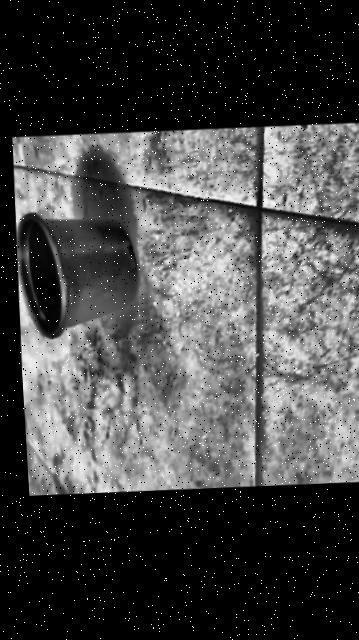pot: (13, 206, 138, 340)
